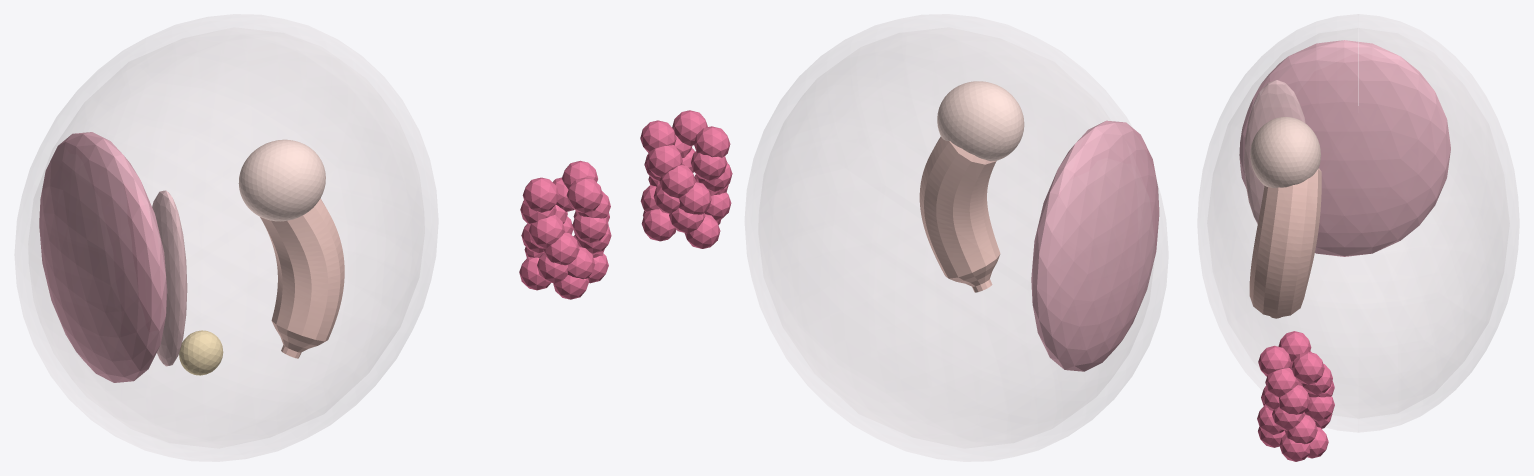
File: hafta_08.glb
3 views of the same model, side by side, from view 1: azimuth 30°, elevation 25°; view 2: azimuth 150°, elevation 25°; view 3: azimuth 270°, elevation 25° (orthographic). The views are drawn at different scales.
Parts seen in each view (by area): view 1: Gebelik_kesesi_dis_zar_8, Plasenta_gelisen_doku_10, Kivrila_erkenci_embriyo_govdesi_1, Gelisen_bas_bolgesi_2, Plasenta_yumusak_yuzey_11, Sari_kese_12, Ahududu_bogumu_24, Ahududu_bogumu_30, Ahududu_bogumu_22, Ahududu_bogumu_27, Ahududu_bogumu_16, Ahududu_bogumu_25 (+4 smaller); view 2: Gebelik_kesesi_dis_zar_8, Plasenta_gelisen_doku_10, Kivrila_erkenci_embriyo_govdesi_1, Gelisen_bas_bolgesi_2, Ahududu_bogumu_30, Ahududu_bogumu_28, Ahududu_bogumu_23, Ahududu_bogumu_24, Ahududu_bogumu_18, Ahududu_bogumu_31, Ahududu_bogumu_17, Ahududu_bogumu_33 (+2 smaller); view 3: Gebelik_kesesi_dis_zar_8, Plasenta_gelisen_doku_10, Kivrila_erkenci_embriyo_govdesi_1, Gelisen_bas_bolgesi_2, Plasenta_yumusak_yuzey_11, Ahududu_bogumu_18, Ahududu_bogumu_24, Ahududu_bogumu_29, Ahududu_bogumu_34, Ahududu_bogumu_30, Ahududu_bogumu_26, Ahududu_bogumu_15 (+5 smaller).
Boxes of the visible parts, bbox=[...] form: Gebelik_kesesi_dis_zar_8: bbox=[15, 14, 437, 461]; Plasenta_gelisen_doku_10: bbox=[39, 132, 167, 382]; Kivrila_erkenci_embriyo_govdesi_1: bbox=[260, 198, 344, 358]; Gelisen_bas_bolgesi_2: bbox=[238, 139, 325, 221]; Plasenta_yumusak_yuzey_11: bbox=[152, 190, 187, 366]; Sari_kese_12: bbox=[179, 330, 223, 375]; Ahududu_bogumu_24: bbox=[566, 177, 602, 213]; Ahududu_bogumu_30: bbox=[522, 177, 559, 212]; Ahududu_bogumu_22: bbox=[529, 215, 565, 248]; Ahududu_bogumu_27: bbox=[543, 232, 579, 265]; Ahududu_bogumu_16: bbox=[572, 214, 608, 242]; Ahududu_bogumu_25: bbox=[519, 257, 550, 290]; Gebelik_kesesi_dis_zar_8: bbox=[745, 14, 1167, 461]; Plasenta_gelisen_doku_10: bbox=[1031, 120, 1159, 371]; Kivrila_erkenci_embriyo_govdesi_1: bbox=[919, 136, 1000, 292]; Gelisen_bas_bolgesi_2: bbox=[937, 81, 1024, 161]; Ahududu_bogumu_30: bbox=[694, 126, 730, 157]; Ahududu_bogumu_28: bbox=[659, 164, 695, 198]; Ahududu_bogumu_23: bbox=[646, 145, 682, 177]; Ahududu_bogumu_24: bbox=[672, 110, 707, 145]; Ahududu_bogumu_18: bbox=[640, 120, 676, 152]; Ahududu_bogumu_31: bbox=[641, 209, 676, 241]; Ahududu_bogumu_17: bbox=[691, 151, 727, 180]; Ahududu_bogumu_33: bbox=[679, 182, 711, 214]; Gebelik_kesesi_dis_zar_8: bbox=[1198, 14, 1518, 432]; Plasenta_gelisen_doku_10: bbox=[1239, 40, 1450, 256]; Kivrila_erkenci_embriyo_govdesi_1: bbox=[1249, 168, 1321, 318]; Gelisen_bas_bolgesi_2: bbox=[1250, 117, 1320, 187]; Plasenta_yumusak_yuzey_11: bbox=[1244, 80, 1305, 223]; Ahududu_bogumu_18: bbox=[1291, 351, 1324, 384]; Ahududu_bogumu_24: bbox=[1258, 345, 1291, 376]; Ahududu_bogumu_29: bbox=[1265, 368, 1298, 397]; Ahududu_bogumu_34: bbox=[1279, 385, 1309, 414]; Ahududu_bogumu_30: bbox=[1278, 331, 1311, 361]; Ahududu_bogumu_26: bbox=[1284, 414, 1317, 444]; Ahududu_bogumu_15: bbox=[1304, 396, 1334, 421].
Bounding box in the file's own units: 10.89 × 8.1 × 6.2.
